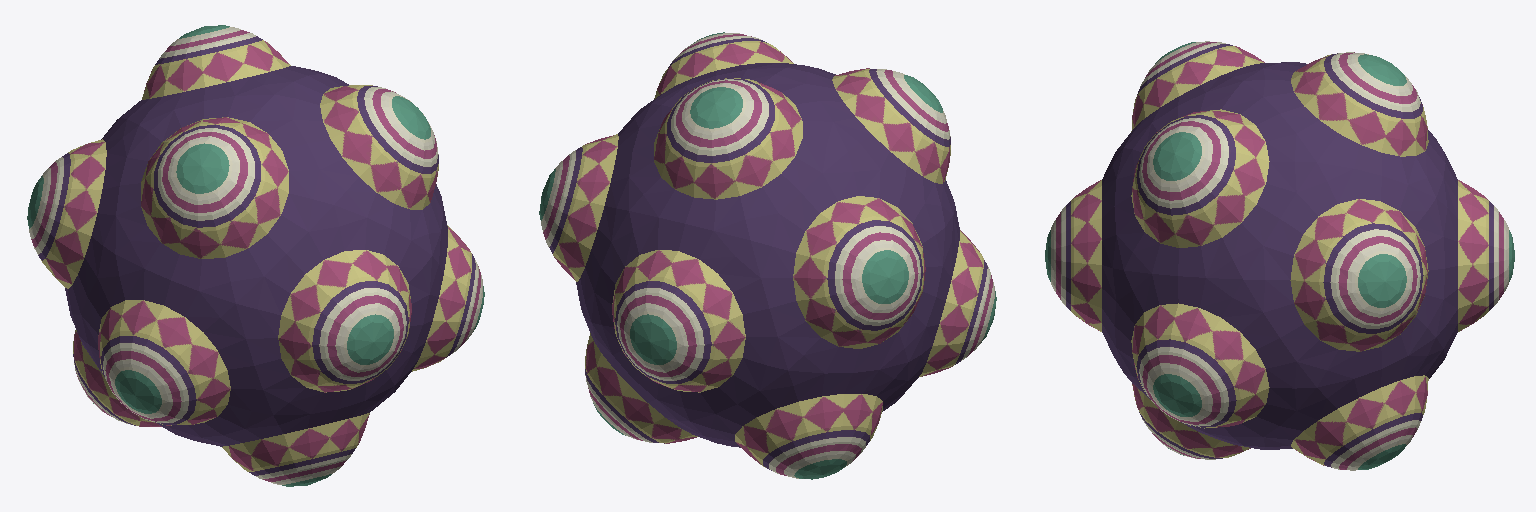
3 renders of one model, left to right at view 1: azimuth 30°, elevation 25°; view 2: azimuth 150°, elevation 25°; view 3: azimuth 270°, elevation 25°, orthographic.
Parts seen in each view (by area): view 1: core_20_0; view 2: core_20_0; view 3: core_20_0.
Part boxes in pixels (x1,y1,x2,y2): core_20_0: (27, 25, 484, 486); core_20_0: (539, 32, 996, 479); core_20_0: (1045, 41, 1514, 470).
Size of the model in its own units: 0.0478 by 0.0494 by 0.0537.
1 materials, 1 textured.